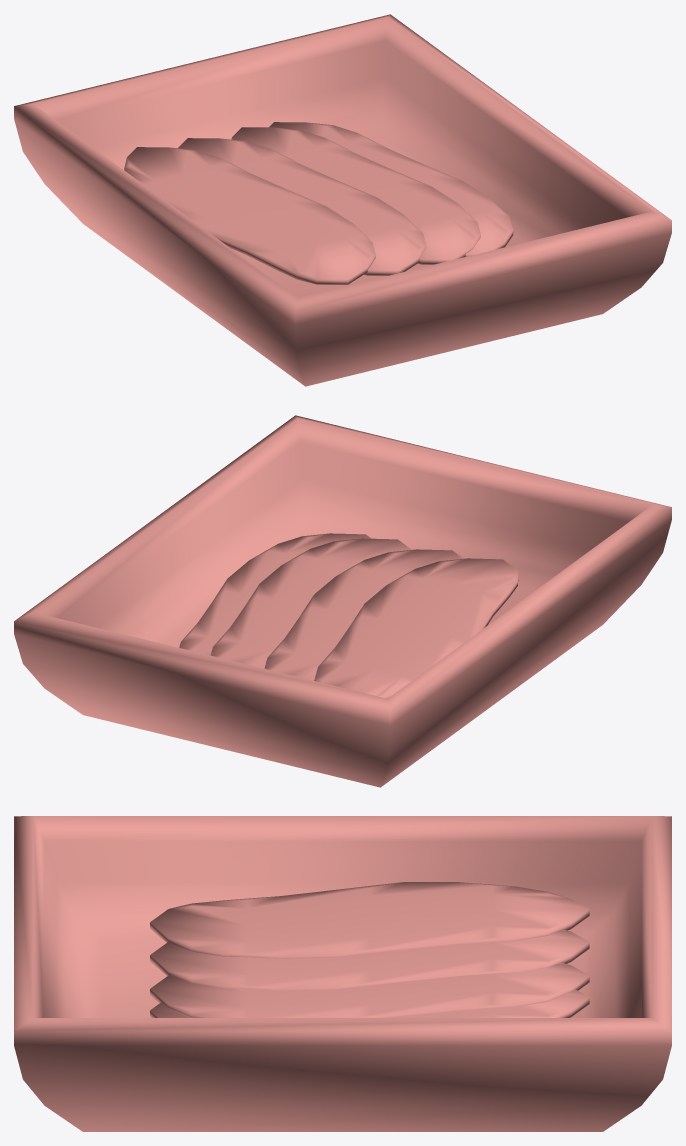
File: Prosciutto_Crudo_Riciclata.fbx
3 renders of one model, top to bottom at view 1: azimuth 30°, elevation 25°; view 2: azimuth 150°, elevation 25°; view 3: azimuth 270°, elevation 25°, orthographic. The views are drawn at different scales.
Visible parts, largest first — view 1: vaschetta.004; view 2: vaschetta.004; view 3: vaschetta.004.
Boxes of the visible parts, x1,y1,x2,y2 form: vaschetta.004: (14, 14, 671, 386); vaschetta.004: (14, 415, 671, 787); vaschetta.004: (14, 816, 671, 1131).
Bounding box in the file's own units: 101 × 28.59 × 131.
